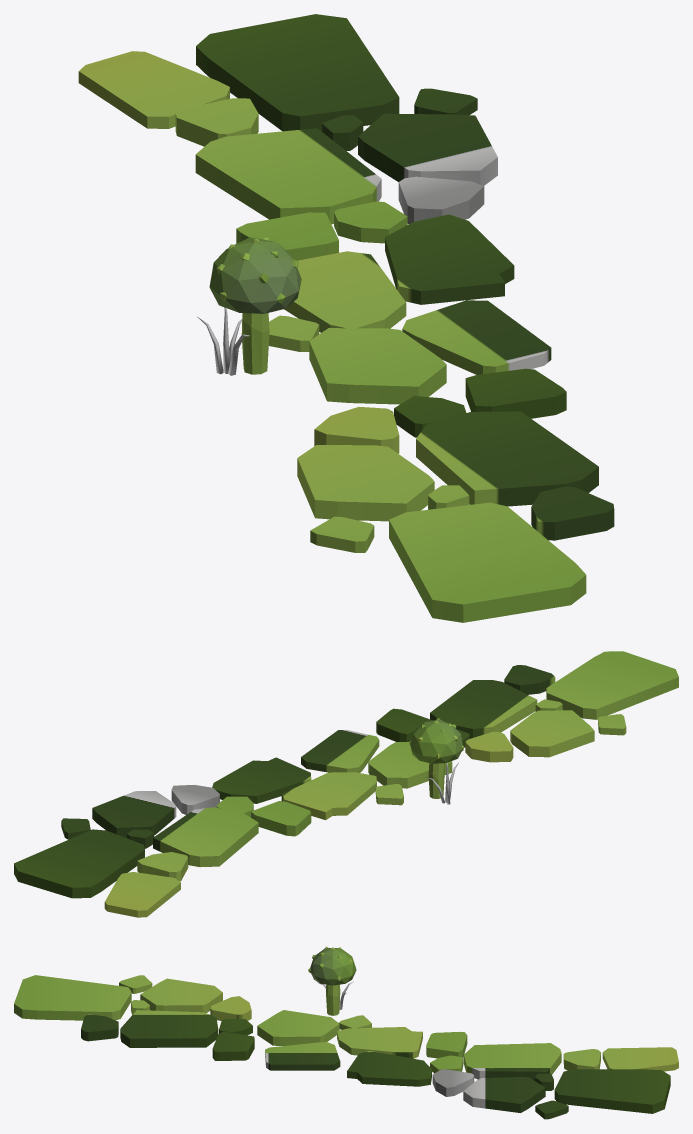
File: Tile_08.fbx
3 renders of one model, top to bottom at view 1: azimuth 30°, elevation 25°; view 2: azimuth 150°, elevation 25°; view 3: azimuth 270°, elevation 25°, orthographic. The views are drawn at different scales.
Parts seen in each view (by area): view 1: Tile_08; view 2: Tile_08; view 3: Tile_08.
Boxes of the visible parts, x1=… form: Tile_08: x1=78, y1=14, x2=614, y2=622; Tile_08: x1=14, y1=651, x2=678, y2=917; Tile_08: x1=14, y1=946, x2=678, y2=1119.
Bounding box in the file's own units: 2.98 × 0.6684 × 6.04.
